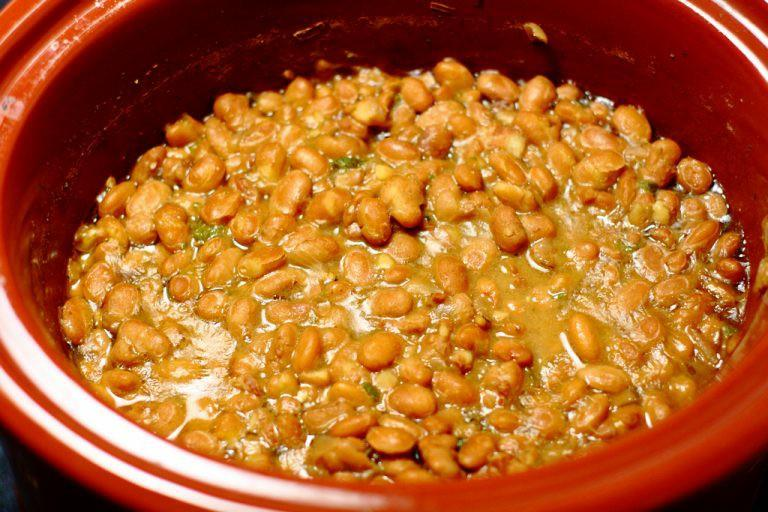RajmaCurry: (53, 60, 744, 478)
